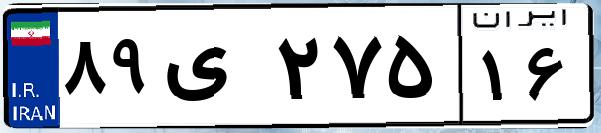1: (475, 38, 525, 113)
2: (270, 28, 330, 110)
5: (385, 28, 445, 110)
6: (525, 38, 570, 115)
7: (330, 28, 385, 110)
8: (57, 26, 110, 100)
9: (110, 28, 158, 98)
ی: (158, 20, 270, 120)
